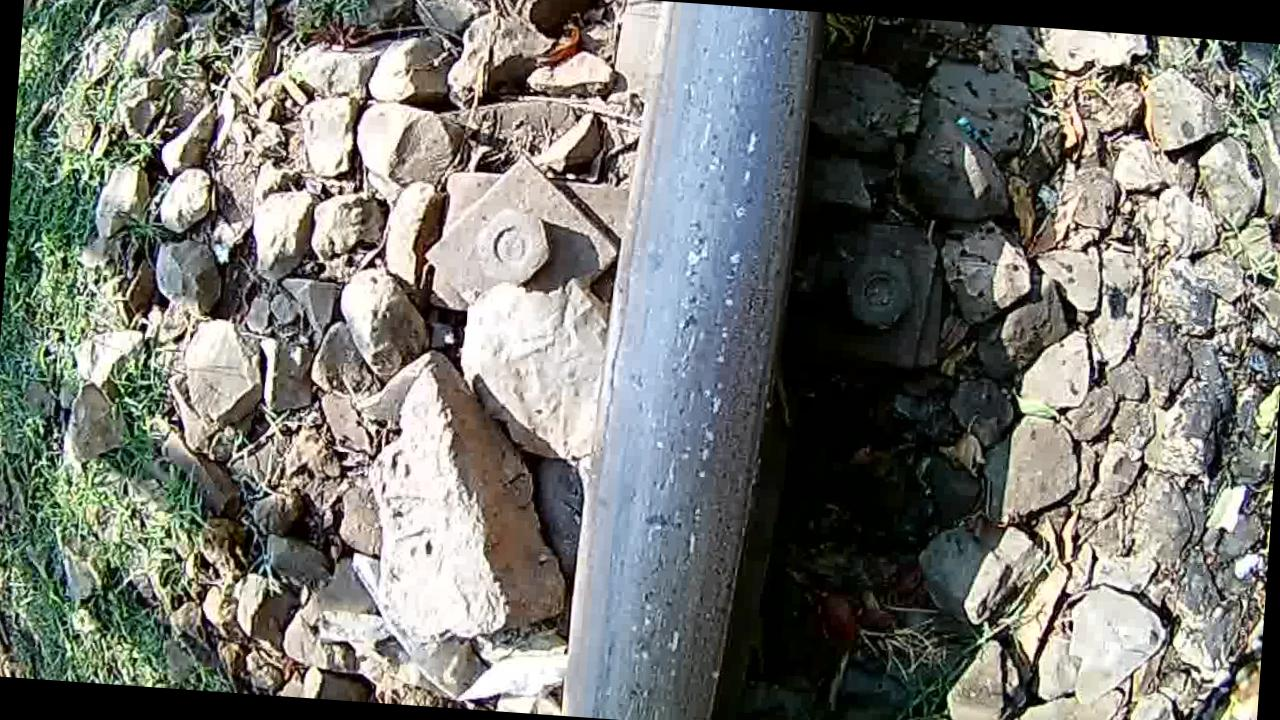clip_missing: (575, 0, 817, 720)
